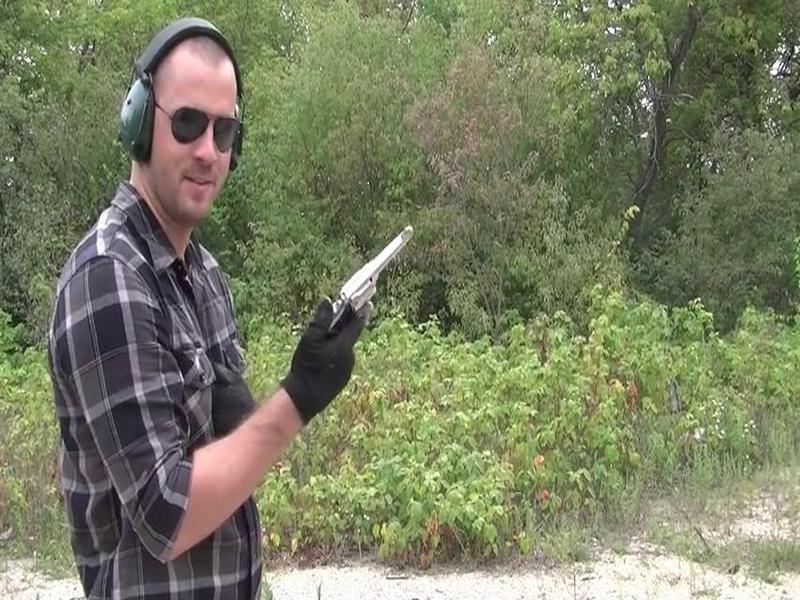Revolver: (314, 220, 420, 333)
